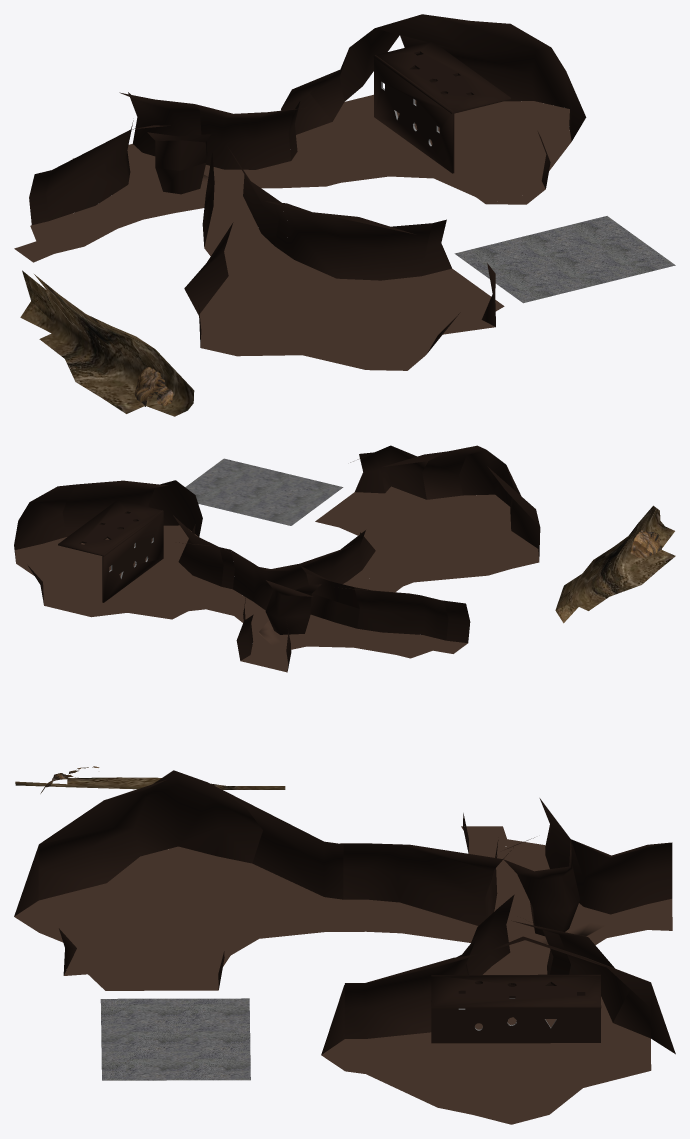
Rendered from cave_world.glb.
The picture shows the model from 3 angles, top to bottom: view 1: azimuth 30°, elevation 25°; view 2: azimuth 150°, elevation 25°; view 3: azimuth 270°, elevation 25°; orthographic projection. The views are drawn at different scales.
Visible parts, largest first — view 1: cave:cave_tile_start:Cave_Ground, cave:cave_tile_8_1:Cave_Walls, cave:cave_tile_start4:Cave_Ground, cave:cave_tile_start4:Cave_Walls, cave:cave_tile_8_1:Cave_Ground, cave:cave_tile_start:Cave_Walls, yard, cave:cave_straight2_2:Cave_Straight_ncl1_5SG, cave:cave_f_1_2:cave_tile_start2:Cave_Walls, cave:cave_straight2_2:TowerBaseSG, cave:cave_tile_5:Cave_Ground; view 2: cave:cave_tile_start:Cave_Ground, cave:cave_tile_8_1:Cave_Walls, cave:cave_tile_start4:Cave_Ground, cave:cave_tile_start:Cave_Walls, cave:cave_tile_start4:Cave_Walls, cave:cave_tile_8_1:Cave_Ground, yard, cave:cave_f_1_2:cave_tile_start2:Cave_Walls, cave:cave_straight2_2:Cave_Straight_ncl1_5SG, cave:cave_f_1_1:cave_tile_start1:Cave_Walls, cave:cave_tile_5:Cave_Walls, cave:cave_straight2_2:TowerBaseSG (+1 smaller); view 3: cave:cave_tile_start:Cave_Ground, cave:cave_tile_8_1:Cave_Walls, cave:cave_tile_start:Cave_Walls, cave:cave_tile_start4:Cave_Ground, yard, cave:cave_tile_start4:Cave_Walls, cave:cave_f_1_2:cave_tile_start2:Cave_Walls, cave:cave_tile_8_1:Cave_Ground, cave:cave_straight2_2:Cave_Straight_ncl1_5SG, cave:cave_tile_5:Cave_Ground, cave:cave_f_1_1:cave_tile_start1:Cave_Walls.
Boxes of the visible parts, x1=… form: cave:cave_tile_start:Cave_Ground: x1=198, y1=253, x2=504, y2=370; cave:cave_tile_8_1:Cave_Walls: x1=29, y1=92, x2=306, y2=252; cave:cave_tile_start4:Cave_Ground: x1=291, y1=94, x2=571, y2=203; cave:cave_tile_start4:Cave_Walls: x1=281, y1=14, x2=586, y2=188; cave:cave_tile_8_1:Cave_Ground: x1=32, y1=144, x2=326, y2=267; cave:cave_tile_start:Cave_Walls: x1=184, y1=201, x2=495, y2=353; yard: x1=454, y1=216, x2=675, y2=303; cave:cave_straight2_2:Cave_Straight_ncl1_5SG: x1=20, y1=270, x2=194, y2=416; cave:cave_f_1_2:cave_tile_start2:Cave_Walls: x1=373, y1=41, x2=510, y2=173; cave:cave_straight2_2:TowerBaseSG: x1=134, y1=367, x2=173, y2=406; cave:cave_tile_5:Cave_Ground: x1=14, y1=225, x2=66, y2=262; cave:cave_tile_start:Cave_Ground: x1=315, y1=486, x2=539, y2=586; cave:cave_tile_8_1:Cave_Walls: x1=227, y1=535, x2=438, y2=670; cave:cave_tile_start4:Cave_Ground: x1=15, y1=529, x2=232, y2=619; cave:cave_tile_start:Cave_Walls: x1=350, y1=445, x2=540, y2=574; cave:cave_tile_start4:Cave_Walls: x1=14, y1=480, x2=234, y2=604; cave:cave_tile_8_1:Cave_Ground: x1=206, y1=575, x2=435, y2=672; yard: x1=185, y1=458, x2=343, y2=525; cave:cave_f_1_2:cave_tile_start2:Cave_Walls: x1=58, y1=500, x2=163, y2=602; cave:cave_straight2_2:Cave_Straight_ncl1_5SG: x1=555, y1=505, x2=675, y2=623; cave:cave_f_1_1:cave_tile_start1:Cave_Walls: x1=148, y1=480, x2=202, y2=536; cave:cave_tile_5:Cave_Walls: x1=434, y1=598, x2=470, y2=642; cave:cave_straight2_2:TowerBaseSG: x1=630, y1=530, x2=661, y2=557; cave:cave_tile_start:Cave_Ground: x1=14, y1=846, x2=343, y2=990; cave:cave_tile_8_1:Cave_Walls: x1=343, y1=798, x2=672, y2=974; cave:cave_tile_start:Cave_Walls: x1=14, y1=770, x2=343, y2=989; cave:cave_tile_start4:Cave_Ground: x1=344, y1=996, x2=651, y2=1124; yard: x1=100, y1=998, x2=250, y2=1080; cave:cave_tile_start4:Cave_Walls: x1=344, y1=920, x2=675, y2=1054; cave:cave_f_1_2:cave_tile_start2:Cave_Walls: x1=431, y1=974, x2=601, y2=1043; cave:cave_tile_8_1:Cave_Ground: x1=343, y1=846, x2=672, y2=974; cave:cave_straight2_2:Cave_Straight_ncl1_5SG: x1=15, y1=777, x2=285, y2=789; cave:cave_tile_5:Cave_Ground: x1=461, y1=826, x2=545, y2=846; cave:cave_f_1_1:cave_tile_start1:Cave_Walls: x1=321, y1=984, x2=344, y2=1054.
Size of the model in its own units: 49.62 by 7.91 by 40.02.
Materials: 15 (3 with a texture image).
